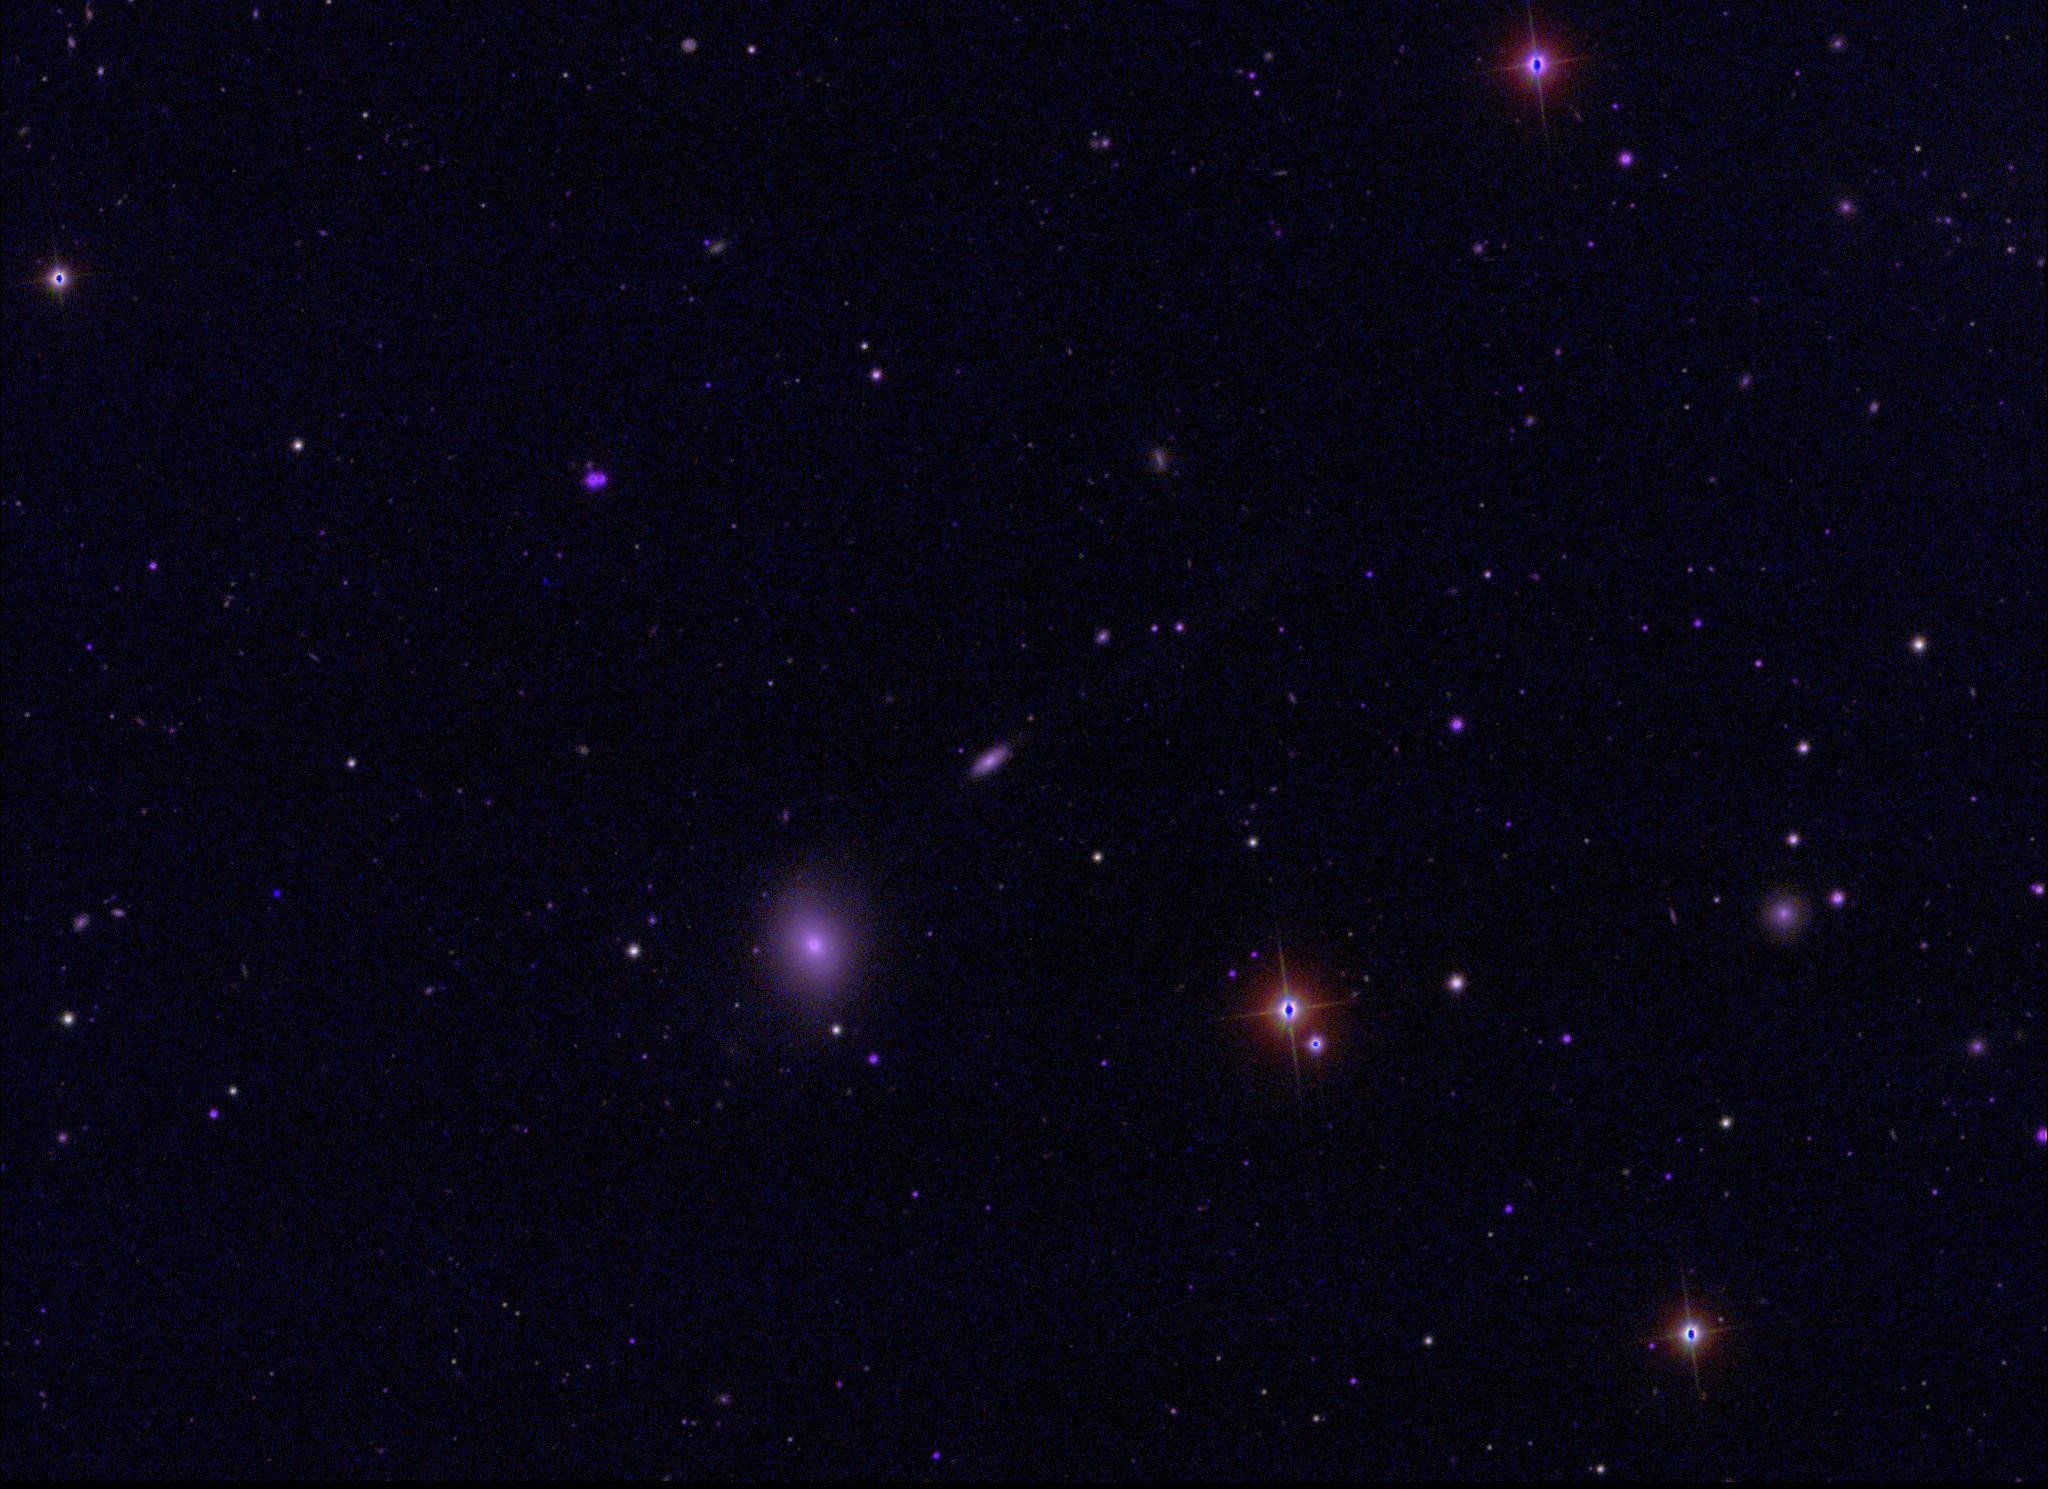L: (269, 889, 281, 904)
